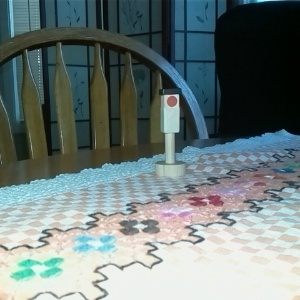traffic light red: (153, 86, 189, 179)
